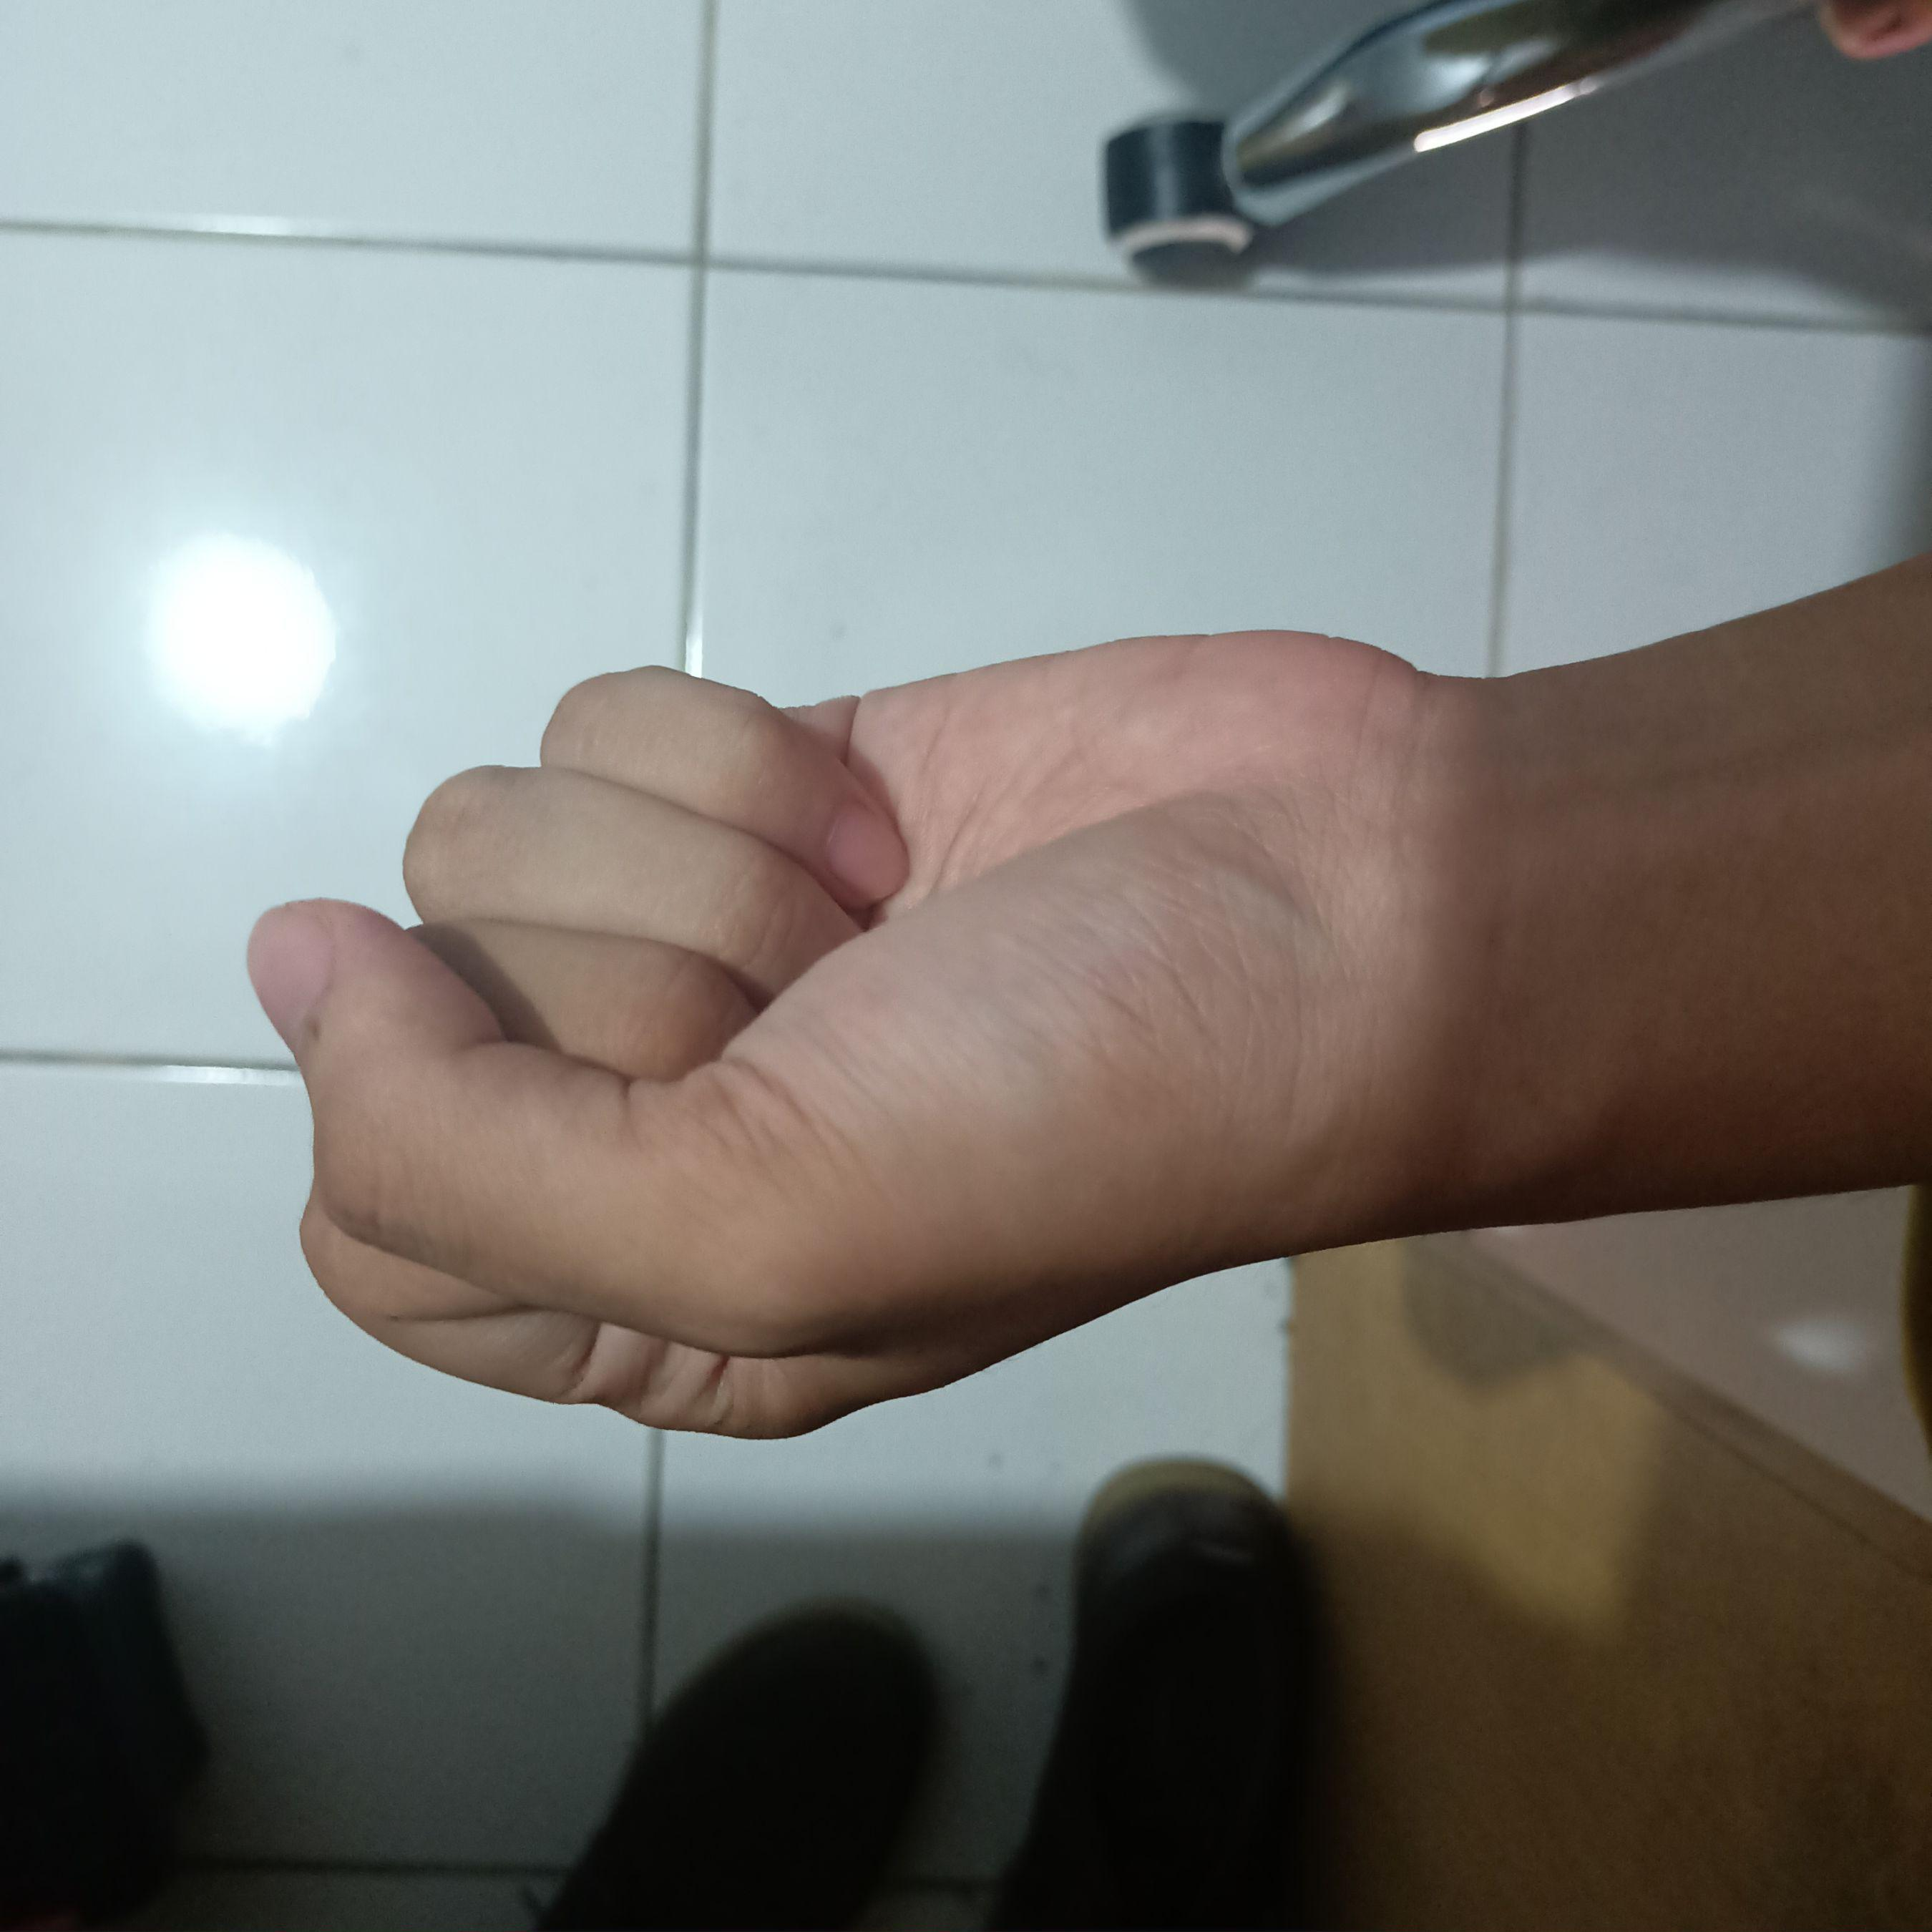rock: (219, 609, 1415, 1465)
